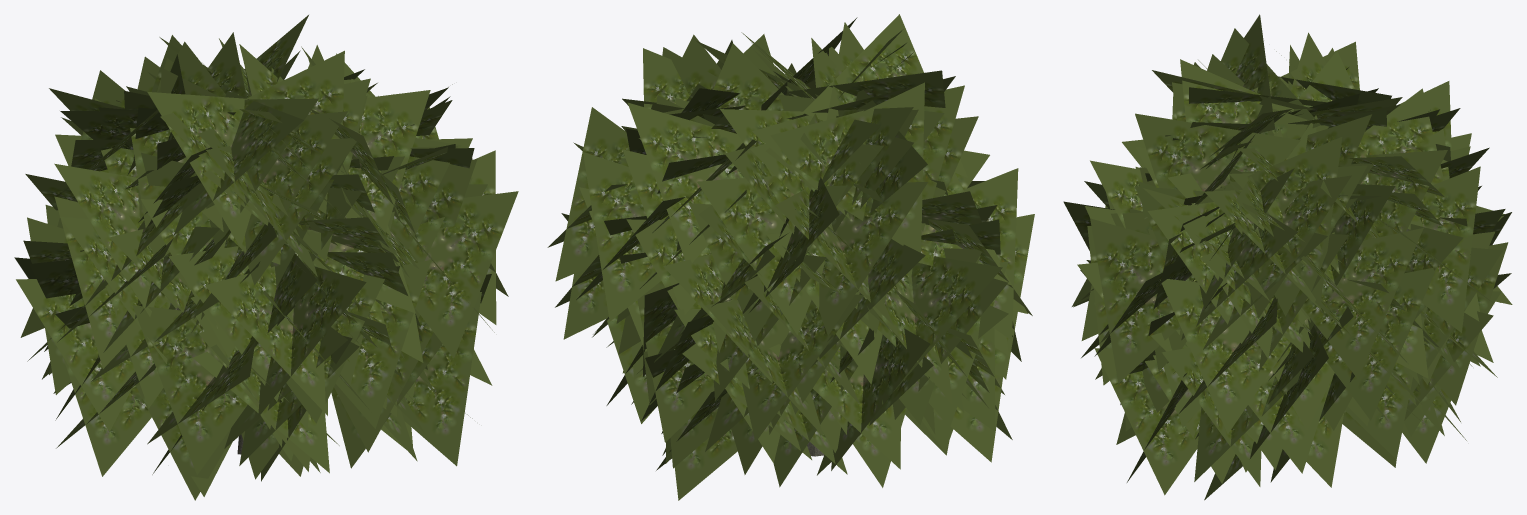
The model's file is Citrus_Sinensis_Spring_Young.glb.
3 views of the same model, side by side, from view 1: azimuth 30°, elevation 25°; view 2: azimuth 150°, elevation 25°; view 3: azimuth 270°, elevation 25° (orthographic). The views are drawn at different scales.
Visible parts, largest first — view 1: Citrus_Sinensis_Spring_Young__LOD3; view 2: Citrus_Sinensis_Spring_Young__LOD3; view 3: Citrus_Sinensis_Spring_Young__LOD3.
Boxes of the visible parts, bbox=[...] form: Citrus_Sinensis_Spring_Young__LOD3: bbox=[14, 15, 518, 500]; Citrus_Sinensis_Spring_Young__LOD3: bbox=[547, 14, 1034, 500]; Citrus_Sinensis_Spring_Young__LOD3: bbox=[1063, 14, 1512, 500].
Bounding box in the file's own units: 4.44 × 3.78 × 4.08.
Materials: 2 (2 with a texture image).
